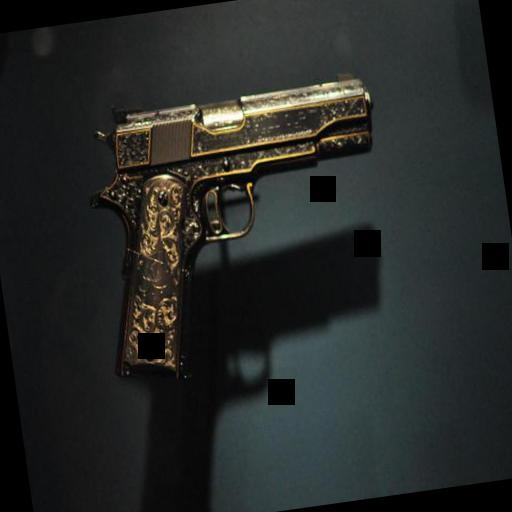Handgun: (76, 62, 406, 390)
